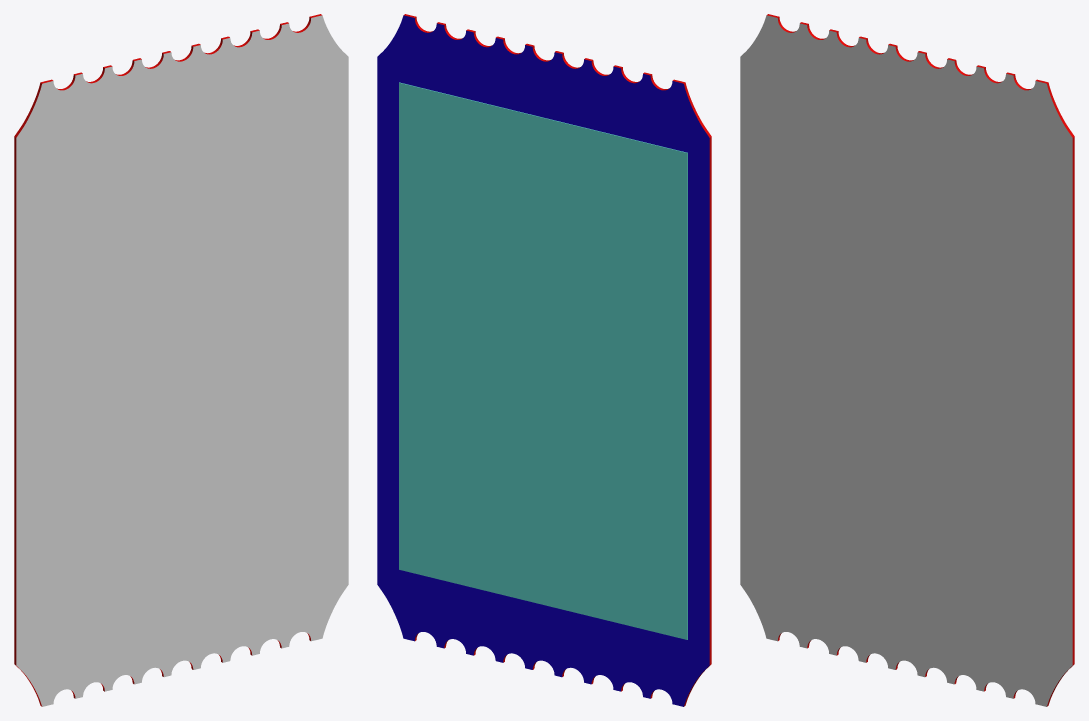
The model's file is mintticket3.glb.
3 views of the same model, side by side, from view 1: azimuth 30°, elevation 25°; view 2: azimuth 150°, elevation 25°; view 3: azimuth 330°, elevation 25° (orthographic).
Visible parts, largest first — view 1: Cube; view 2: Plane, Cube; view 3: Cube.
Part boxes in pixels (x1,y1,x2,y2): Cube: (14, 14, 348, 706); Plane: (399, 82, 687, 639); Cube: (377, 14, 711, 706); Cube: (740, 14, 1074, 706).
Size of the model in its own units: 5.04 by 9.04 by 0.0595.
